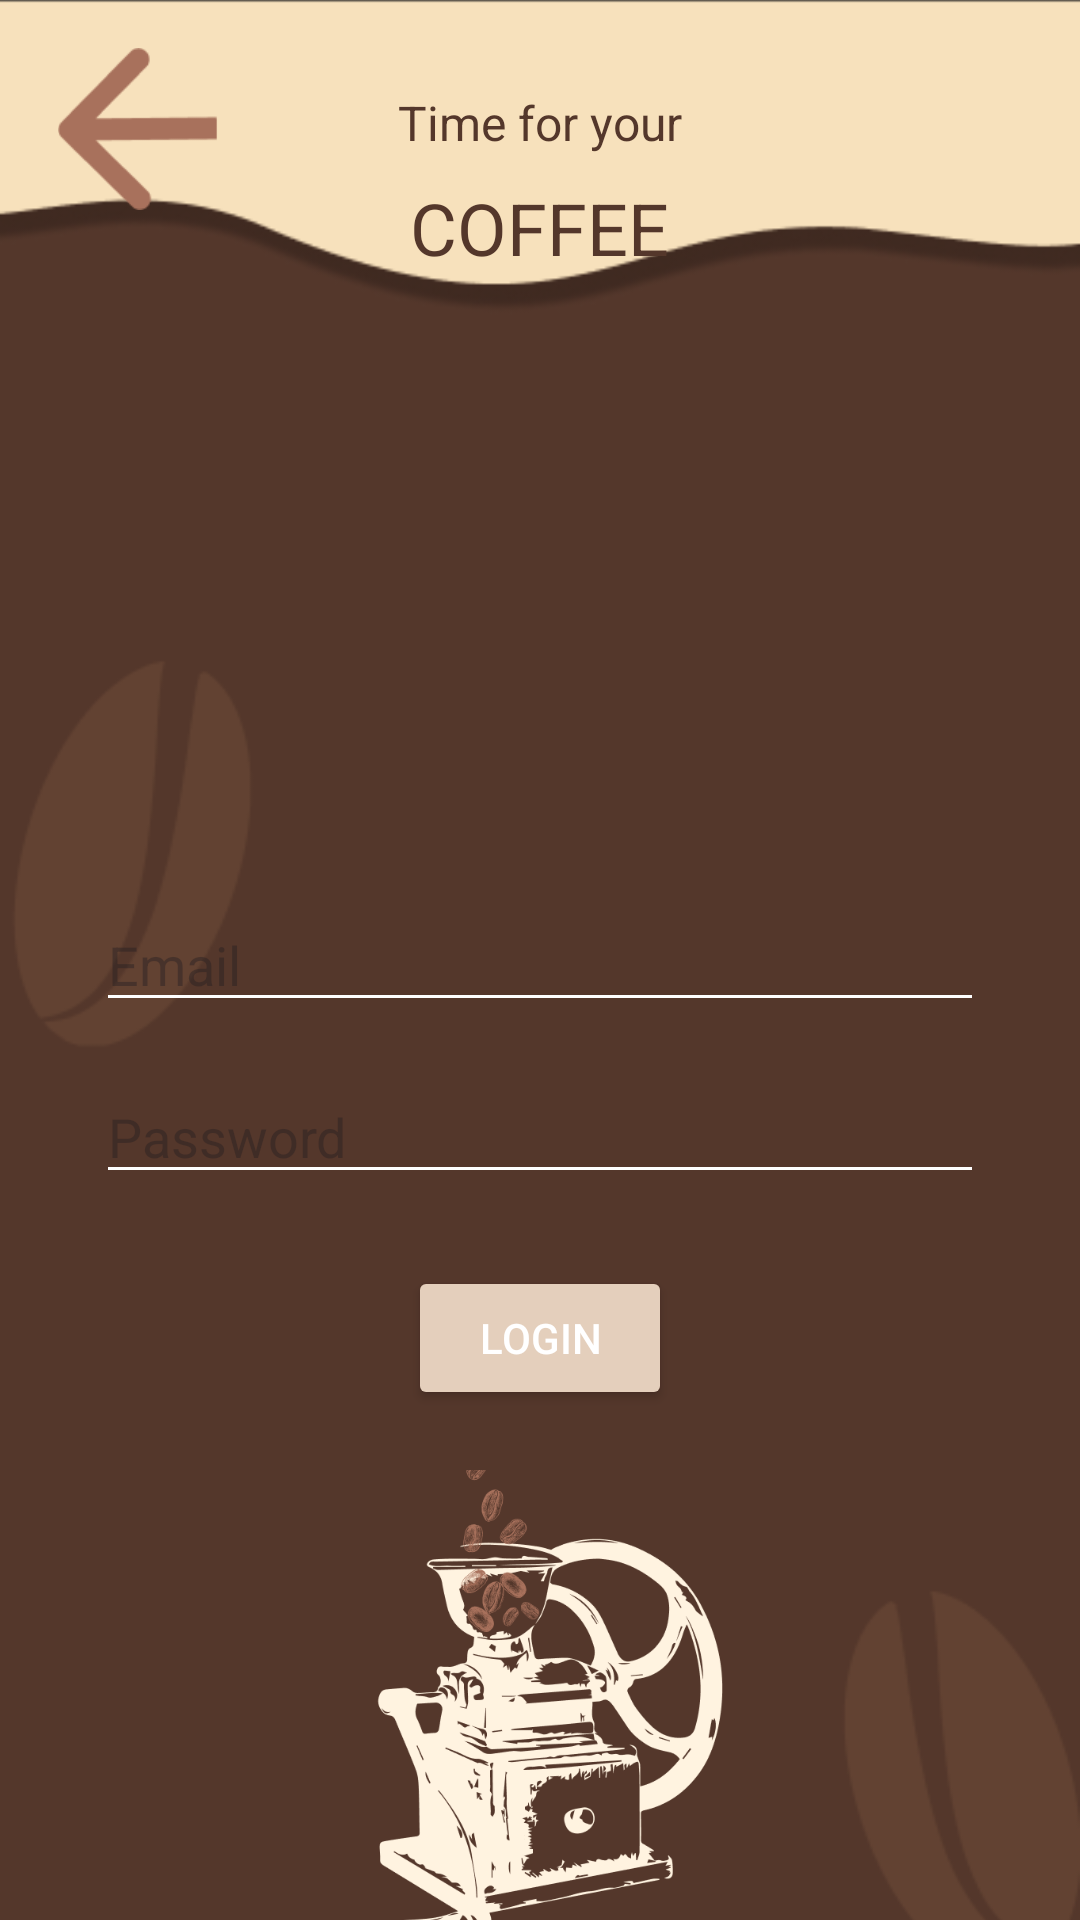

Icon bounding boxes for this 1080 x 1920 phone screenshot, format detection(x1, y1, x2, y2):
exit: detection(48, 48, 220, 210)
